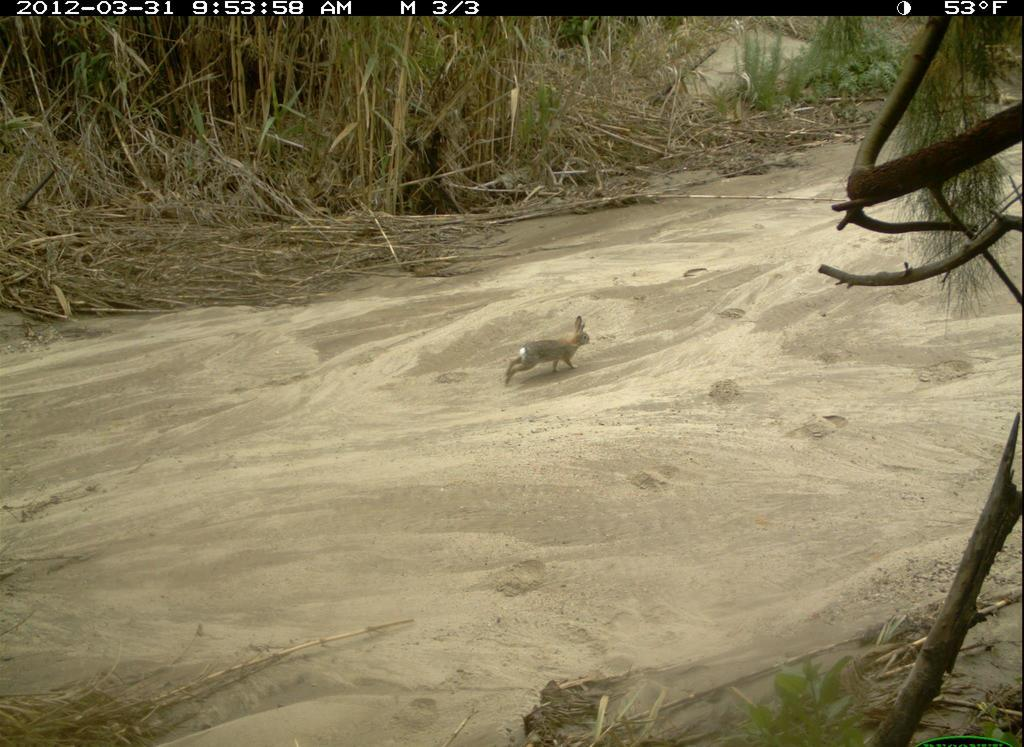rabbit: (496, 312, 602, 387)
